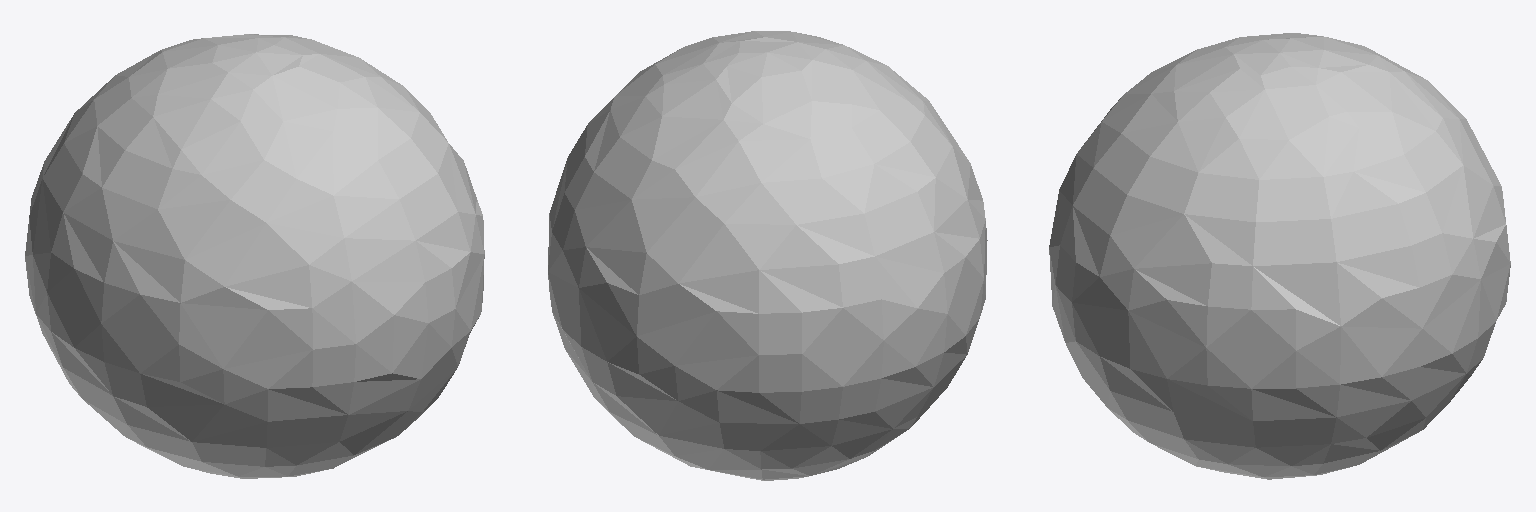
File: cloud.obj
The picture shows the model from 3 angles: view 1: azimuth 30°, elevation 25°; view 2: azimuth 150°, elevation 25°; view 3: azimuth 270°, elevation 25°; orthographic projection.
Parts seen in each view (by area): view 1: Sphere001; view 2: Sphere001; view 3: Sphere001.
Boxes of the visible parts, x1=… form: Sphere001: x1=25, y1=34, x2=484, y2=478; Sphere001: x1=548, y1=31, x2=987, y2=480; Sphere001: x1=1049, y1=33, x2=1510, y2=479.
Bounding box in the file's own units: 149640 × 149782 × 154044.